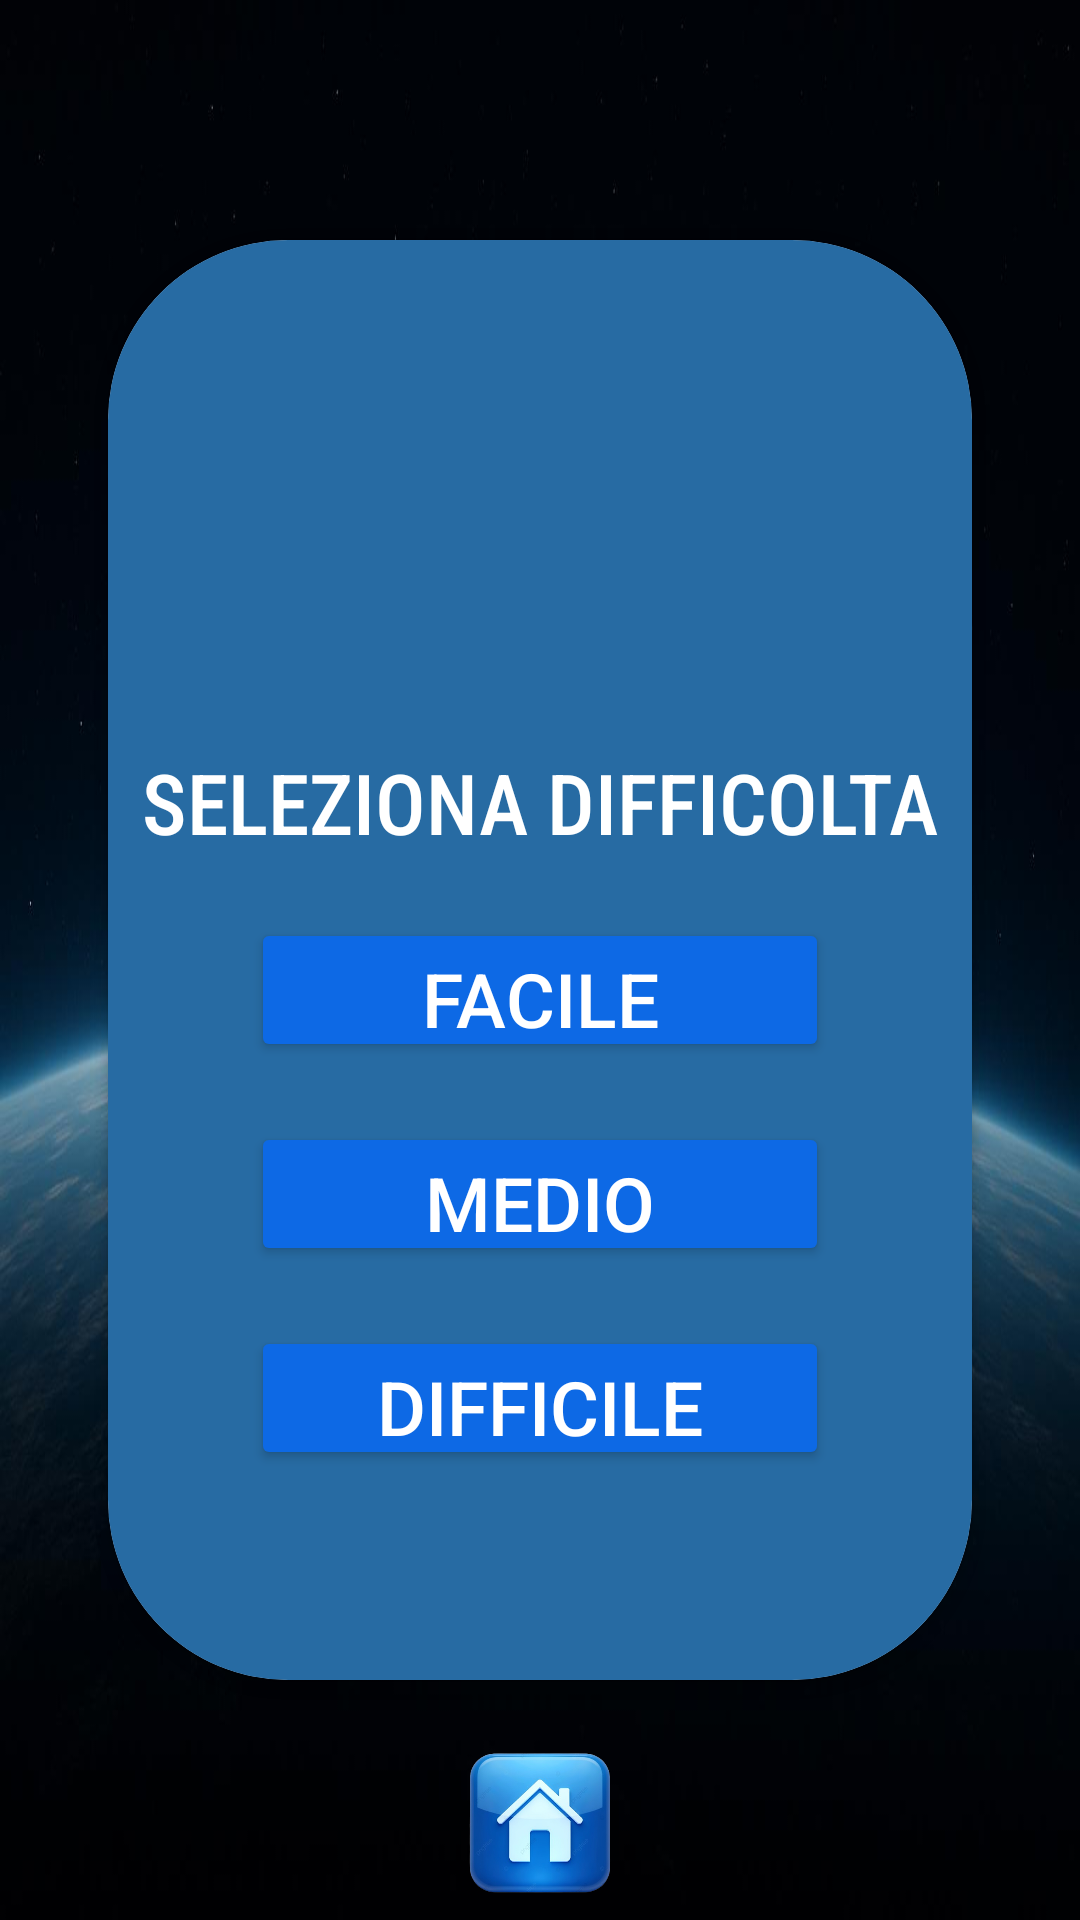

Icon click points for this 1080 x 1920 phone screenshot, format (x,y):
immagine home: (540,1823)
